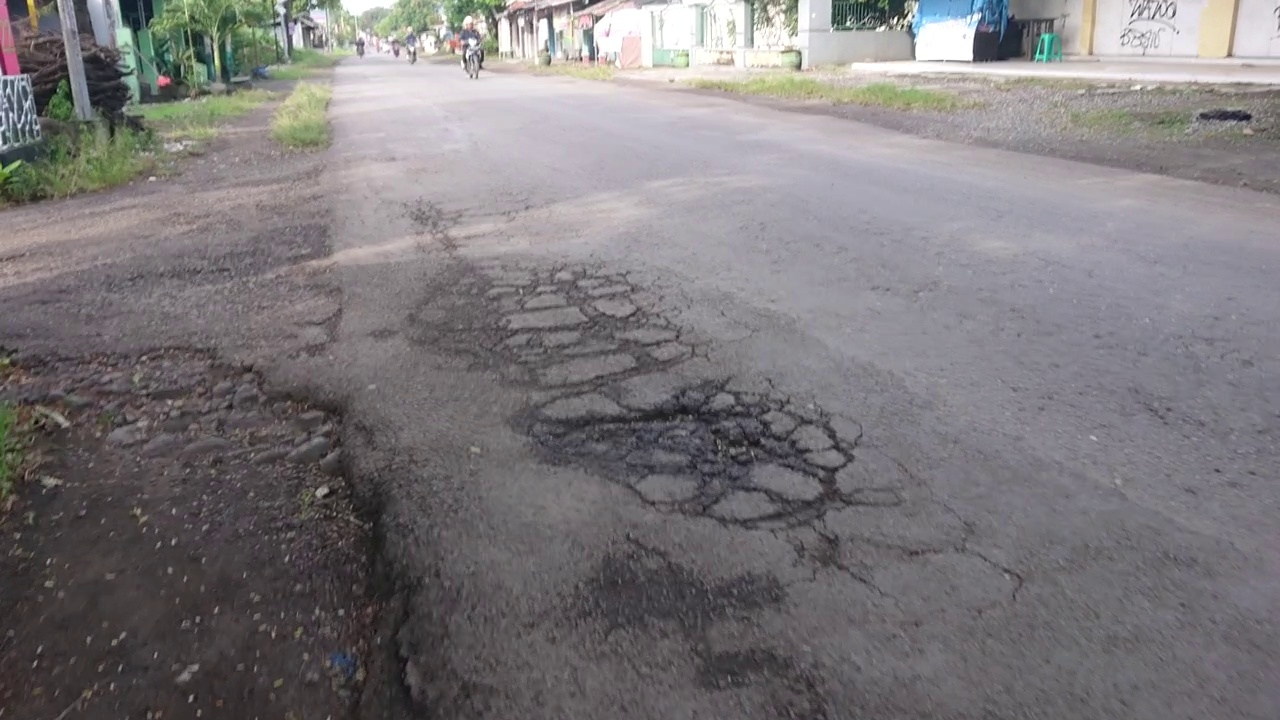Retak: (462, 259, 866, 568)
